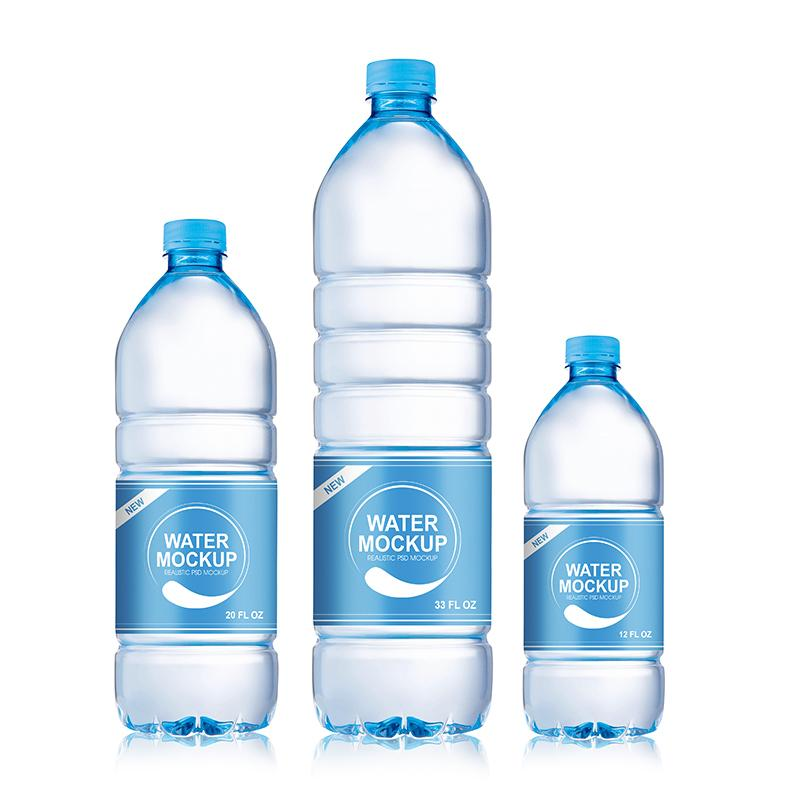bottle: (301, 52, 502, 757), (107, 209, 290, 753), (514, 325, 676, 759)
